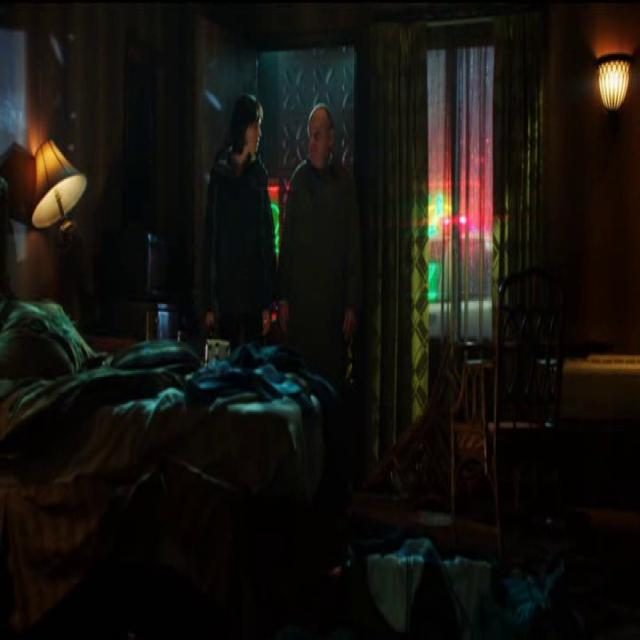People: (160, 67, 287, 443), (288, 83, 366, 453)
Table: (540, 284, 640, 574)
chair: (433, 274, 569, 558)
